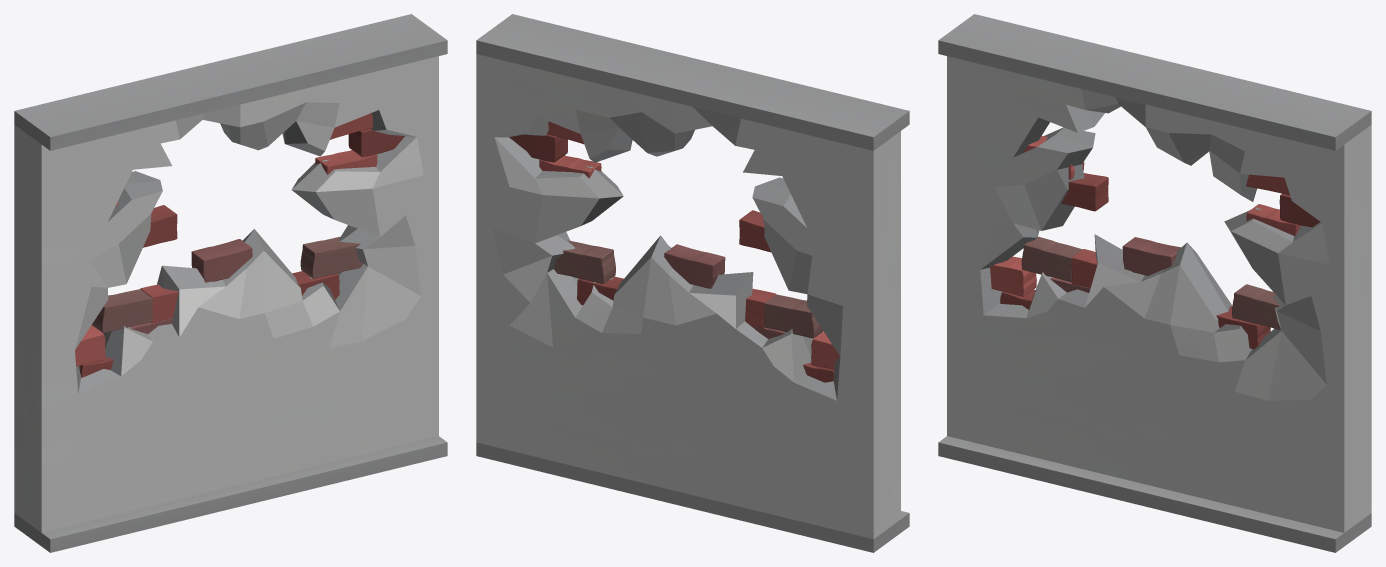
Rendered from wall_1_hole.glb.
3 views of the same model, side by side, from view 1: azimuth 30°, elevation 25°; view 2: azimuth 150°, elevation 25°; view 3: azimuth 330°, elevation 25° (orthographic).
Parts seen in each view (by area): view 1: wall_1_hole, brick3.001, brick9.001, brick1.001, brick7.001, brick4.001, brick13.001, brick6.001, brick10.001, brick2.001, brick8.001; view 2: wall_1_hole, brick3.001, brick9.001, brick1.001, brick7.001, brick4.001, brick6.001, brick13.001, brick10.001, brick2.001; view 3: wall_1_hole, brick9.001, brick1.001, brick3.001, brick13.001, brick4.001, brick10.001, brick6.001, brick2.001, brick7.001, brick8.001.
Part boxes in pixels (box(x1,y1,x2,y2)): wall_1_hole: box(14, 14, 447, 552); brick3.001: box(300, 236, 362, 278); brick9.001: box(92, 289, 152, 333); brick1.001: box(191, 239, 252, 282); brick7.001: box(348, 129, 404, 157); brick4.001: box(143, 205, 177, 247); brick13.001: box(75, 325, 105, 366); brick6.001: box(315, 150, 377, 174); brick10.001: box(140, 284, 178, 323); brick2.001: box(292, 271, 339, 299); brick8.001: box(330, 113, 372, 139); wall_1_hole: box(476, 14, 909, 552); brick3.001: box(554, 240, 615, 284); brick9.001: box(763, 294, 823, 338); brick1.001: box(664, 244, 725, 288); brick7.001: box(509, 134, 567, 162); brick4.001: box(739, 210, 770, 252); brick6.001: box(539, 155, 601, 178); brick13.001: box(811, 331, 839, 369); brick10.001: box(745, 288, 776, 328); brick2.001: box(577, 276, 623, 305); wall_1_hole: box(938, 14, 1371, 552); brick9.001: box(1021, 236, 1082, 282); brick1.001: box(1122, 237, 1180, 275); brick3.001: box(1232, 284, 1280, 329); brick13.001: box(990, 256, 1036, 296); brick4.001: box(1061, 173, 1108, 211); brick10.001: box(1071, 249, 1097, 287); brick6.001: box(1246, 204, 1300, 235); brick2.001: box(1216, 306, 1270, 348); brick7.001: box(1279, 193, 1320, 227); brick8.001: box(1246, 174, 1289, 195).
Bounding box in the file's own units: 2 × 2 × 0.314.
Materials: 1 (1 with a texture image).
